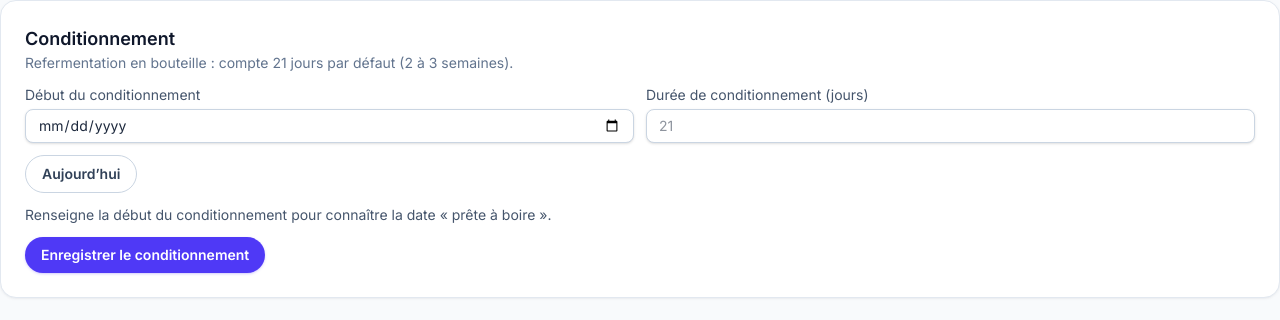
ConditioningCard › date modifiable, avec une suggestion non contraignante › offre « Aujourd’hui » pour démarrer le conditionnement maintenant
Click the button "Aujourd’hui": (81, 174) [25, 155, 137, 193]
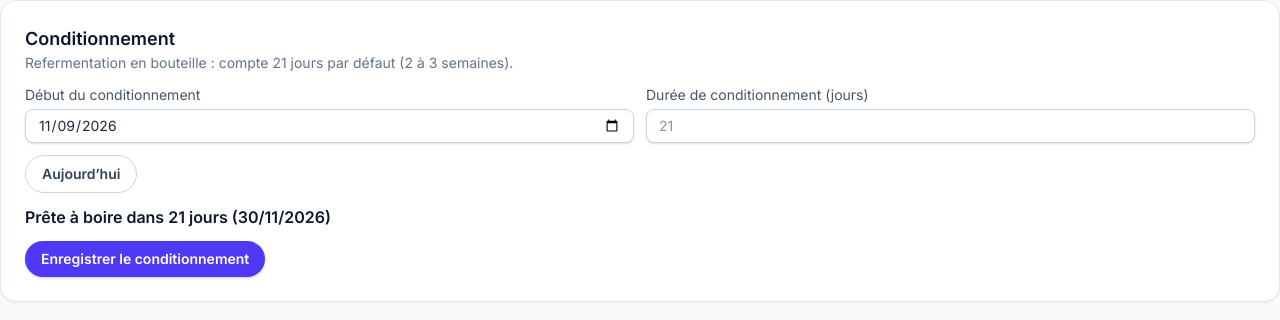
Expected: the date field labelled "Début du conditionnement" holds "2026-11-09", [25, 109, 634, 143]
